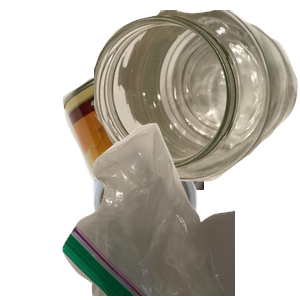glass: (94, 10, 300, 184)
metal: (60, 58, 300, 238)
plastic: (91, 152, 281, 300)
trash: (60, 120, 300, 300)
